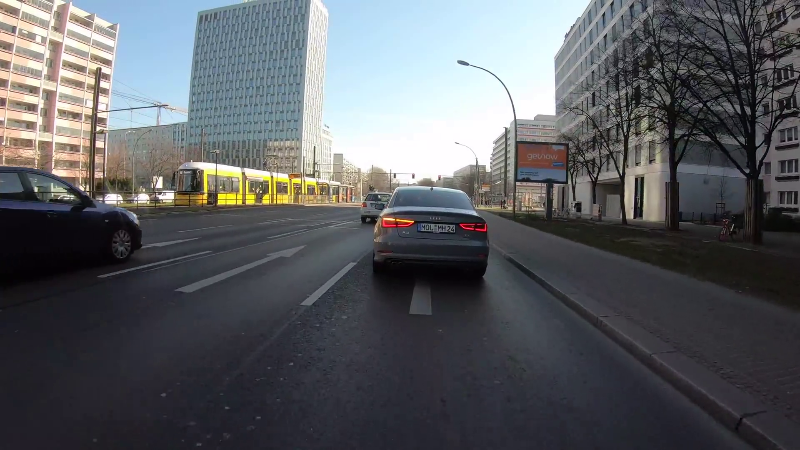Plate: (415, 221, 456, 235)
